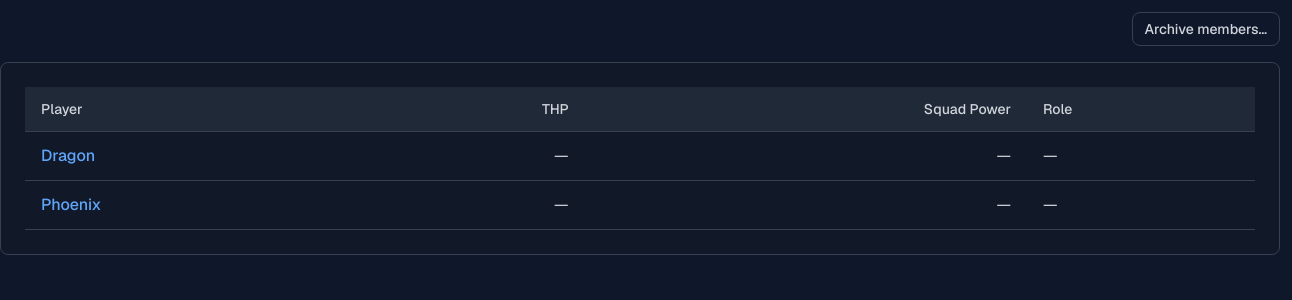
it: MembersTable — entering and exiting selection mode › select-all selects every displayed row and toggling it off clears the selection
Click the button "Archive members…": (1206, 29) x1=1132 y1=12 x2=1280 y2=46
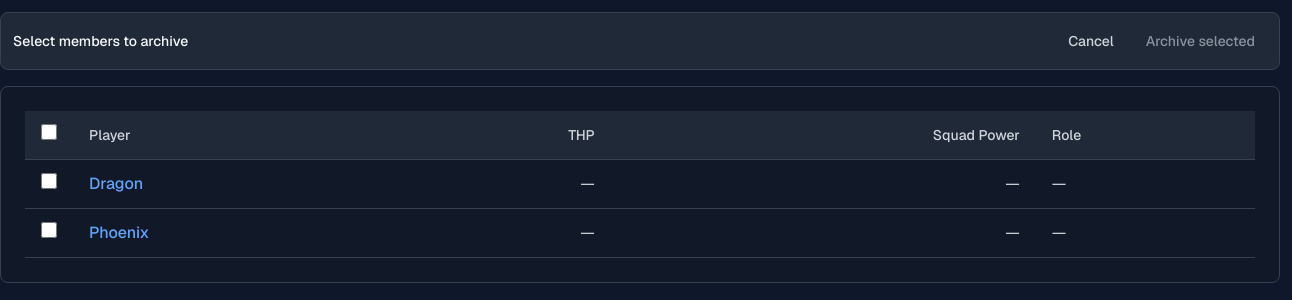
Click the checkbox named "Select all active members": (49, 132) x1=41 y1=124 x2=57 y2=140
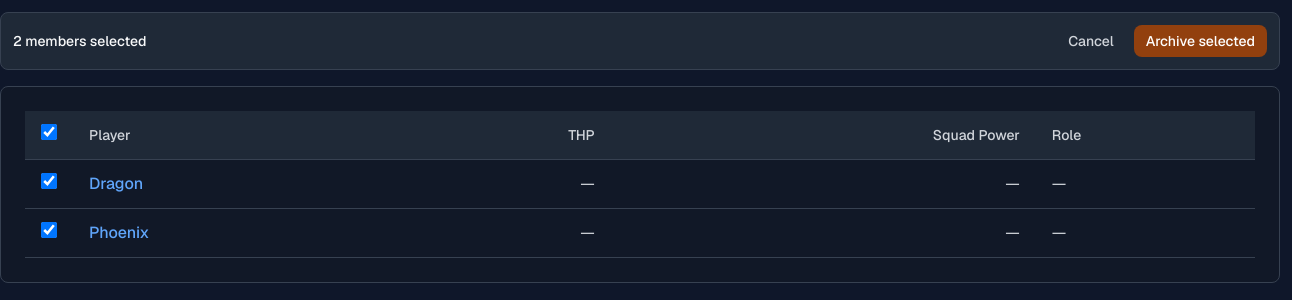
Now the text "2 members selected" is shown, box x1=13 y1=31 x2=146 y2=51
Click the checkbox named "Select all active members": (49, 132) x1=41 y1=124 x2=57 y2=140
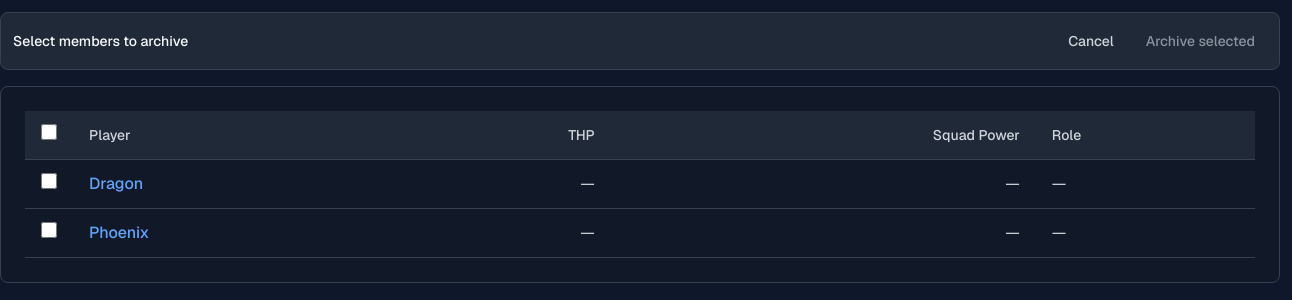
Now the text "Select members to archive" is shown, box x1=13 y1=31 x2=188 y2=51
